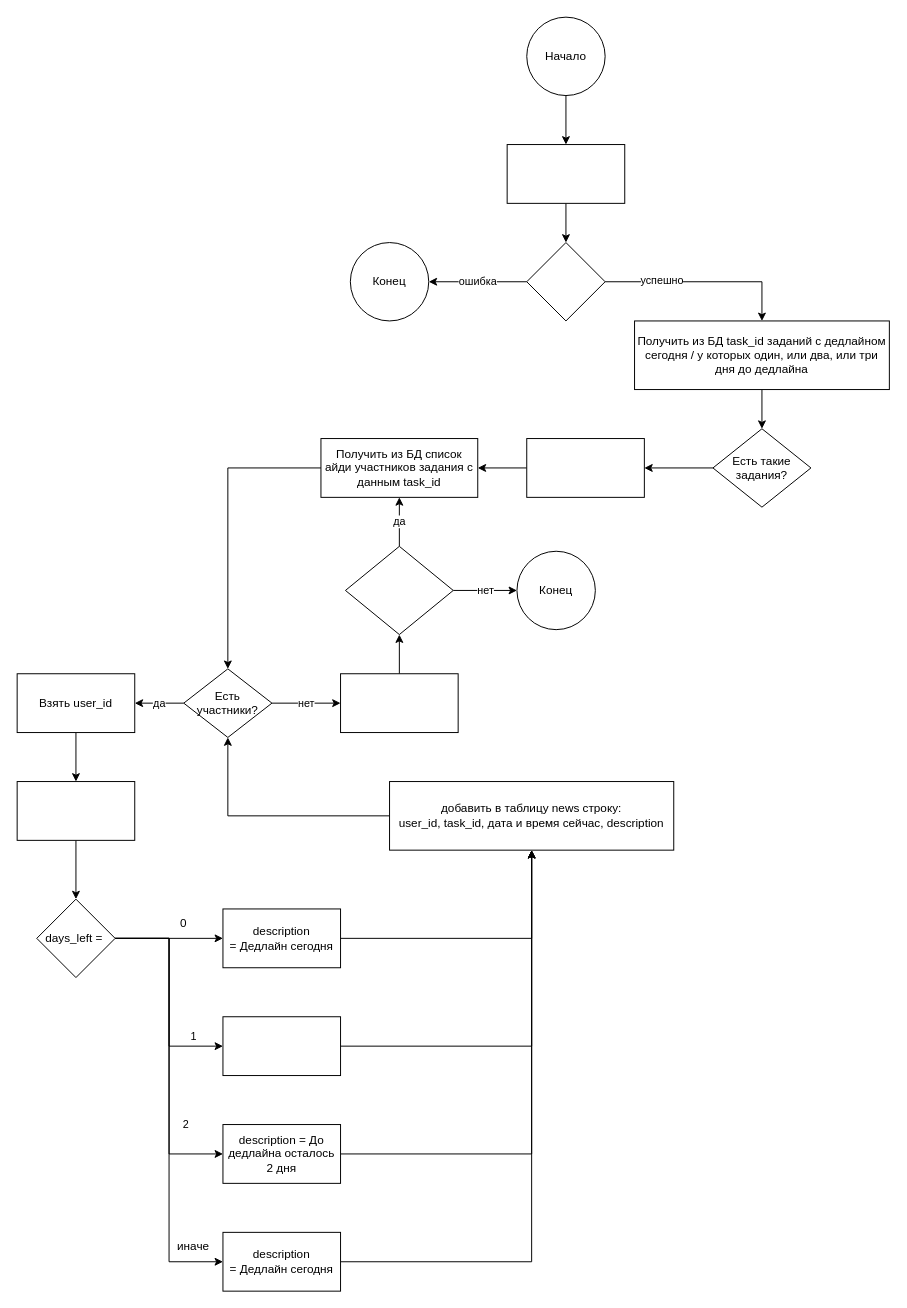
Some shapes in this 907 by 1308 pixel diagram are drawn without their labels. The shapes that lost their labels are listed below. From the top down, each one's centre as x and y in pixels, then its label:
At (565,173): "Установка соединения".
At (585,467): "выбрать task_id первого из списка заданий".
At (398,590): "Есть дальше задания?".
At (399,703): "Выбрать следующий task_id".
At (75,810): "days_left = разности дней между сегодня и днем дедлайна".
At (281,1046): "description = До дедлайна остался 1 день".
